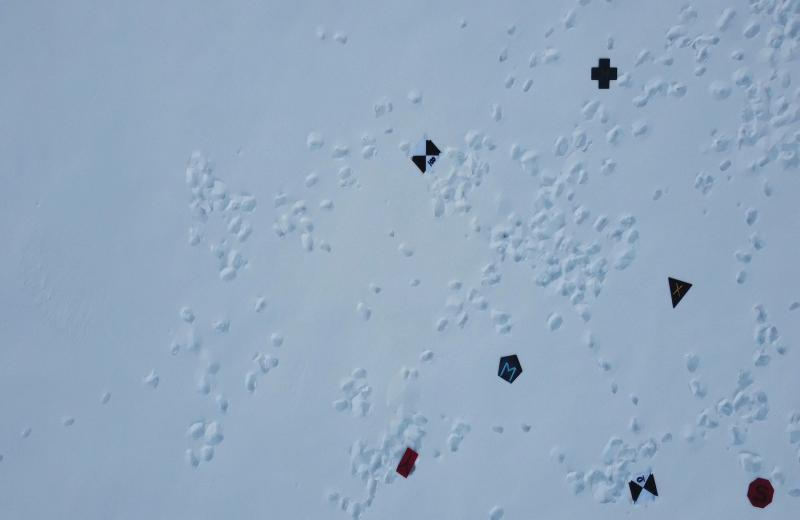Cross: (587, 54, 619, 90)
Octagon: (742, 472, 778, 512)
Pentagon: (392, 445, 424, 480)
Triangle: (660, 270, 694, 311)
